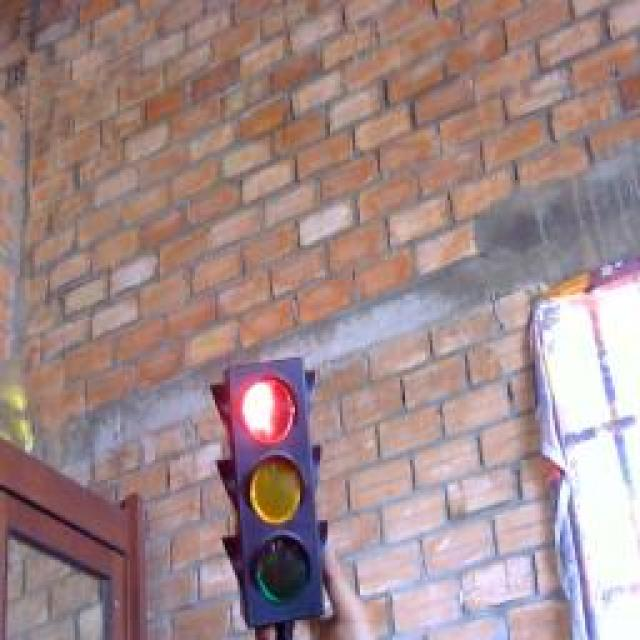-: (234, 361, 306, 451)
